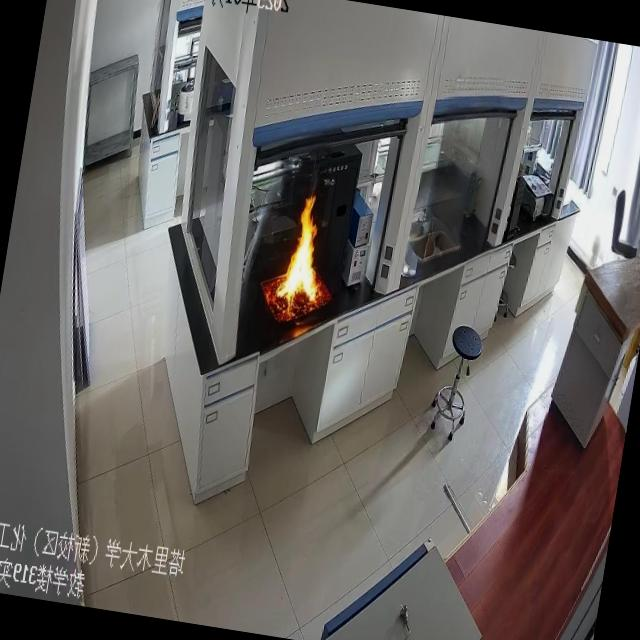fire: (264, 164, 347, 326)
